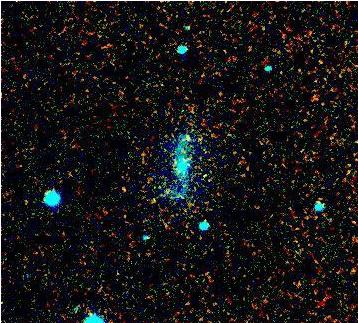star: (173, 123, 203, 153)
